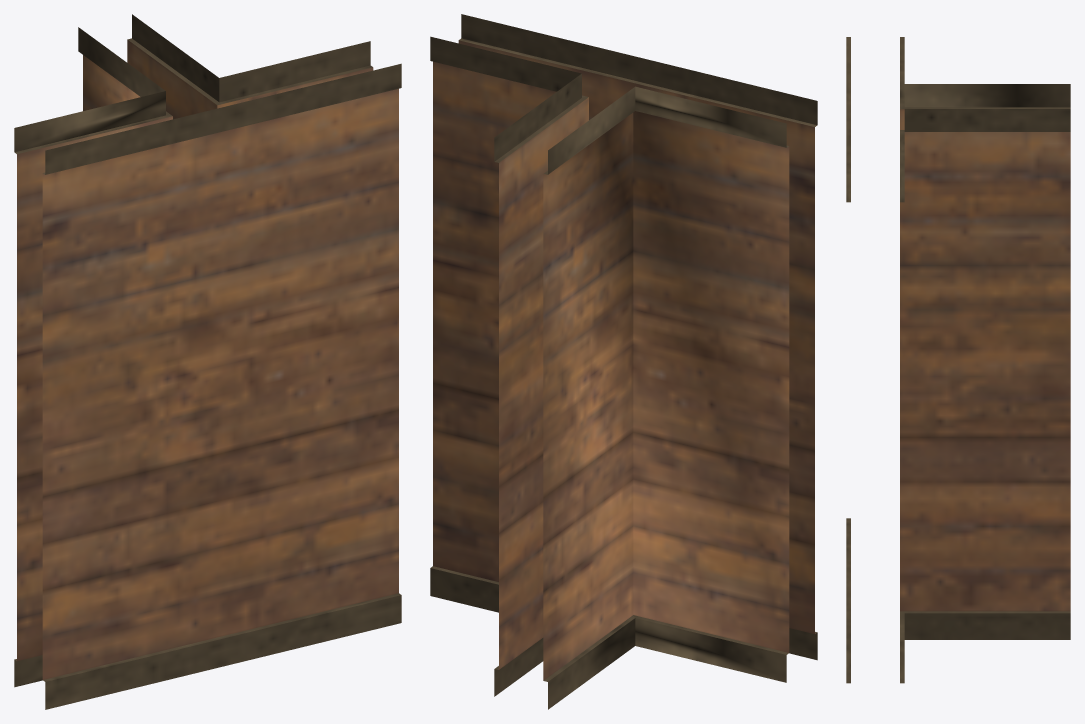
Rendered from MS_Wallpiece_T.fbx.
3 renders of one model, left to right at view 1: azimuth 30°, elevation 25°; view 2: azimuth 150°, elevation 25°; view 3: azimuth 270°, elevation 25°, orthographic. The views are drawn at different scales.
Parts seen in each view (by area): view 1: Cube; view 2: Cube; view 3: Cube.
Boxes of the visible parts, x1=… form: Cube: x1=14, y1=14, x2=401, y2=709; Cube: x1=430, y1=14, x2=817, y2=709; Cube: x1=846, y1=37, x2=1070, y2=683.
Bounding box in the file's own units: 400 × 600 × 230.
